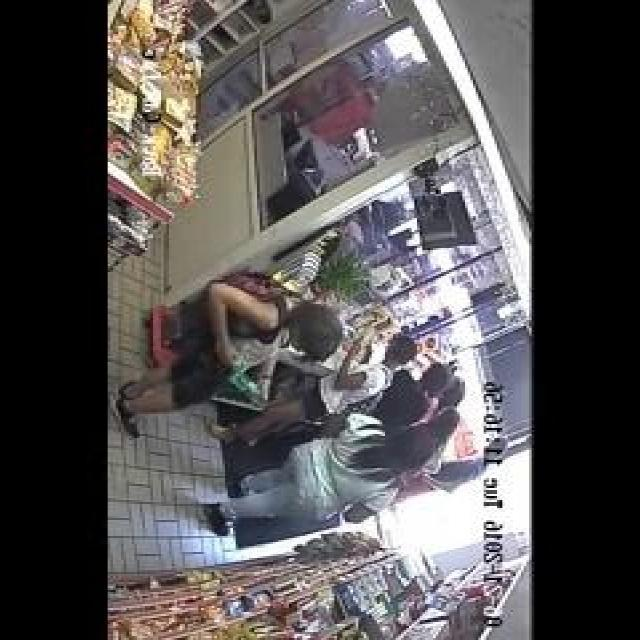Shoplifting: (119, 265, 335, 433)
